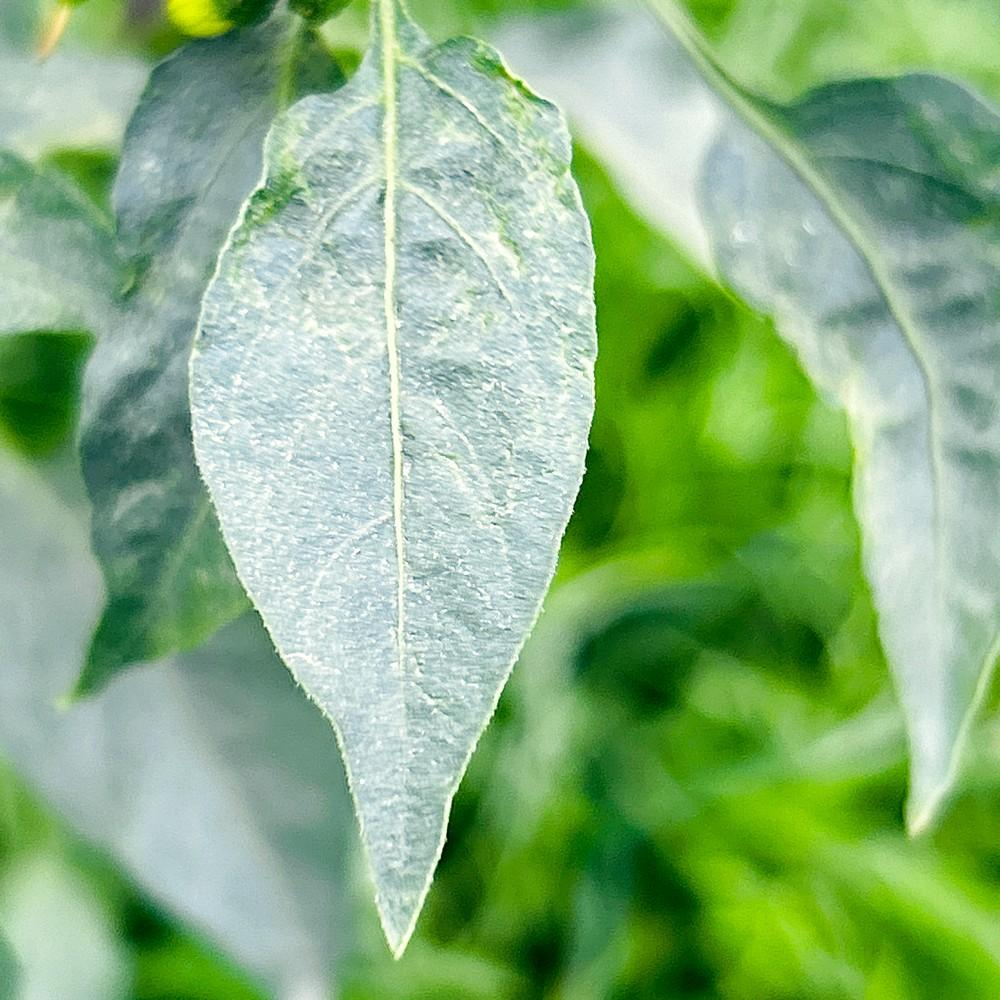Daun Cabai Sehat: (185, 1, 599, 959), (690, 63, 1000, 841)
